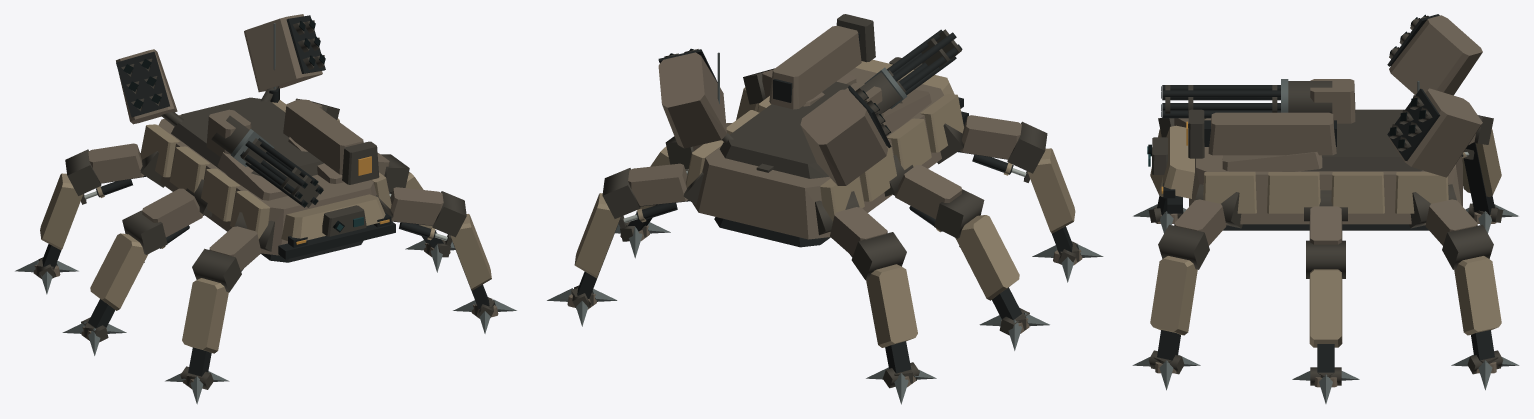
The picture shows the model from 3 angles, left to right: view 1: azimuth 30°, elevation 25°; view 2: azimuth 150°, elevation 25°; view 3: azimuth 270°, elevation 25°; orthographic projection. The views are drawn at different scales.
Parts seen in each view (by area): view 1: MX06_STATIC; view 2: MX06_STATIC; view 3: MX06_STATIC.
Part boxes in pixels (box(x1,y1,x2,y2)): MX06_STATIC: box(15, 14, 516, 404); MX06_STATIC: box(547, 14, 1103, 404); MX06_STATIC: box(1132, 14, 1519, 403).
Size of the model in its own units: 6.74 by 3.81 by 5.45.
